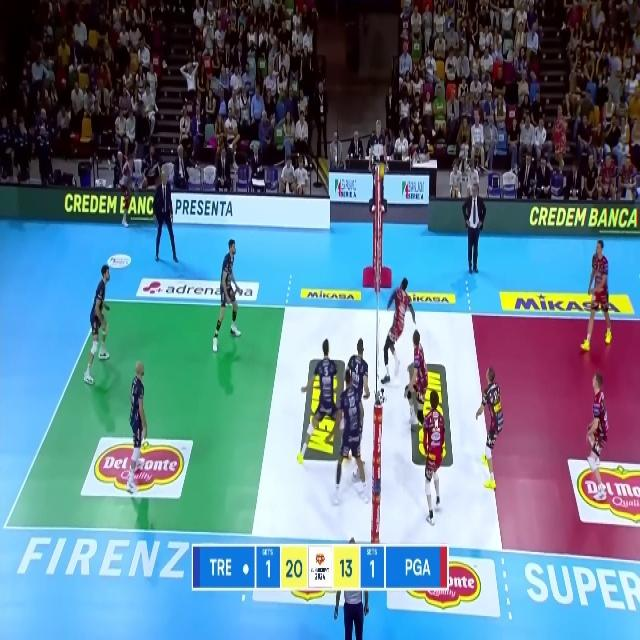volleyball court: (4, 300, 640, 563)
